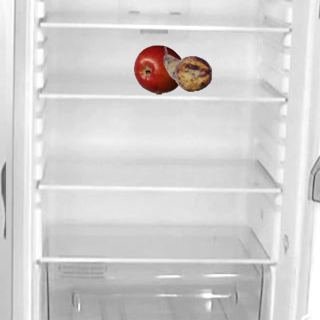Apple Braeburn: (133, 44, 183, 94)
Pear Abate: (162, 44, 212, 94)
